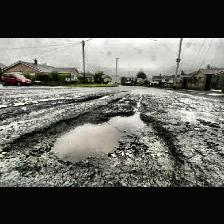pothole: (0, 108, 186, 186)
